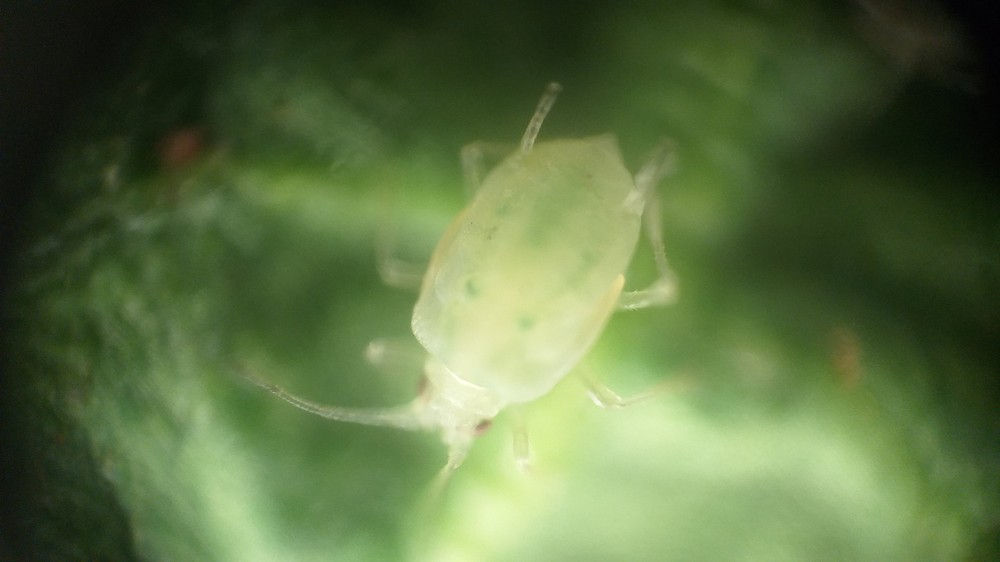Pulgon: (246, 66, 739, 552)
